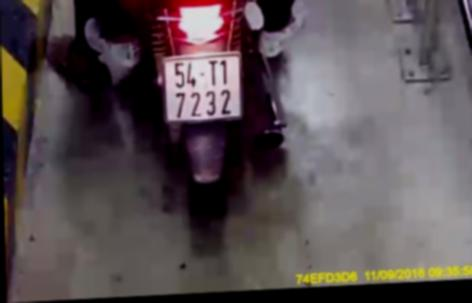License_Plate: (157, 47, 252, 131)
